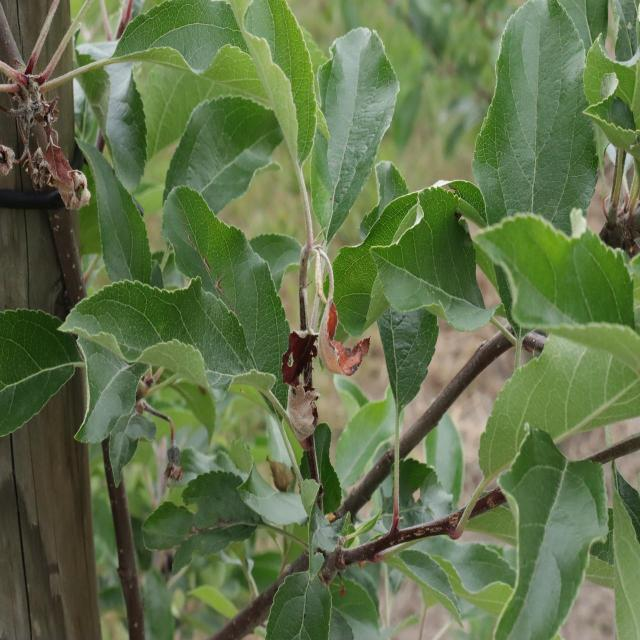-FireBlight-: (11, 76, 90, 212), (300, 289, 380, 392)
